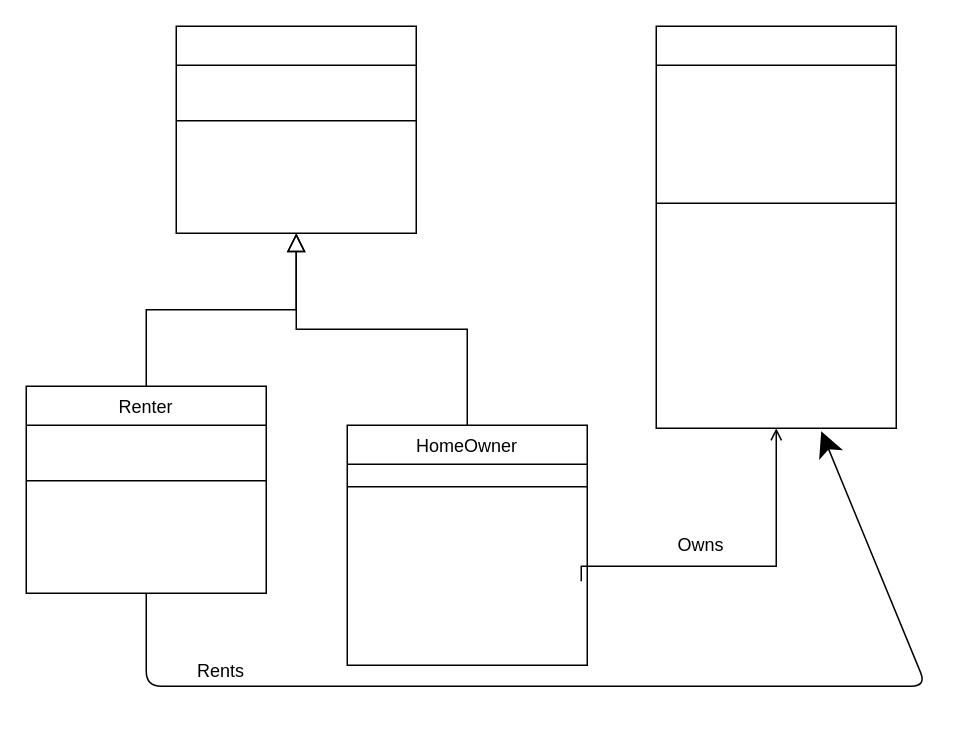
The diagram is 977 pixels wide and 737 high, and some of its shapes have lost their labels. The shapes that lost their labels are listed below. From the top down, each one's centre as x and y in pixels, then its label:
the point at 295,129: Person
the point at 775,226: Property
